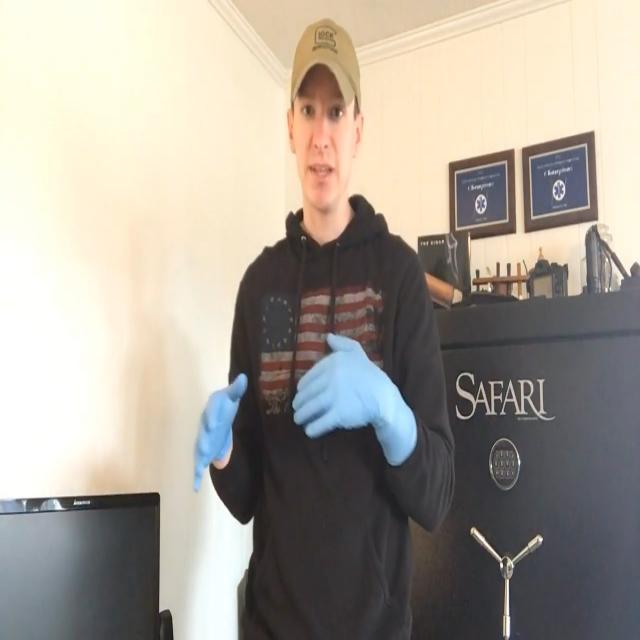Gloves: (287, 329, 423, 485), (173, 366, 250, 489)
